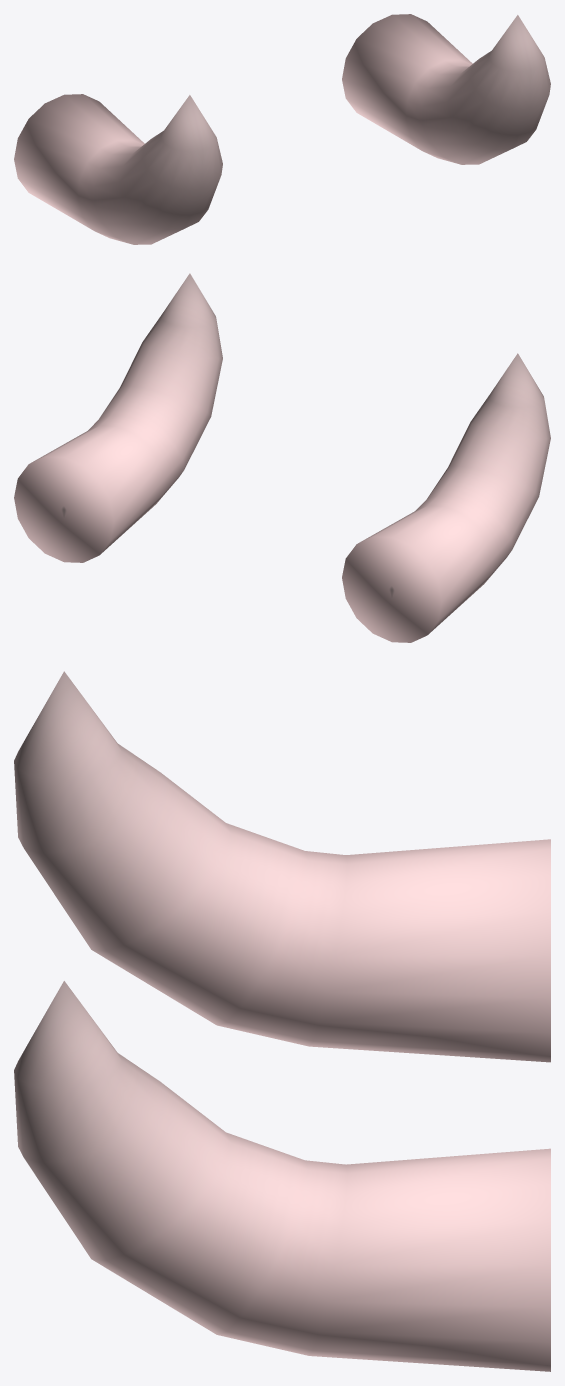
Rendered from PresasMarmore.fbx.
3 renders of one model, top to bottom at view 1: azimuth 30°, elevation 25°; view 2: azimuth 150°, elevation 25°; view 3: azimuth 270°, elevation 25°, orthographic. The views are drawn at different scales.
Visible parts, largest first — view 1: PresasMarmore; view 2: PresasMarmore; view 3: PresasMarmore.
Boxes of the visible parts, x1,y1,x2,y2 form: PresasMarmore: (14, 14, 550, 244); PresasMarmore: (14, 273, 550, 642); PresasMarmore: (14, 671, 550, 1371).
Size of the model in its own units: 152 by 66.82 by 85.35.
